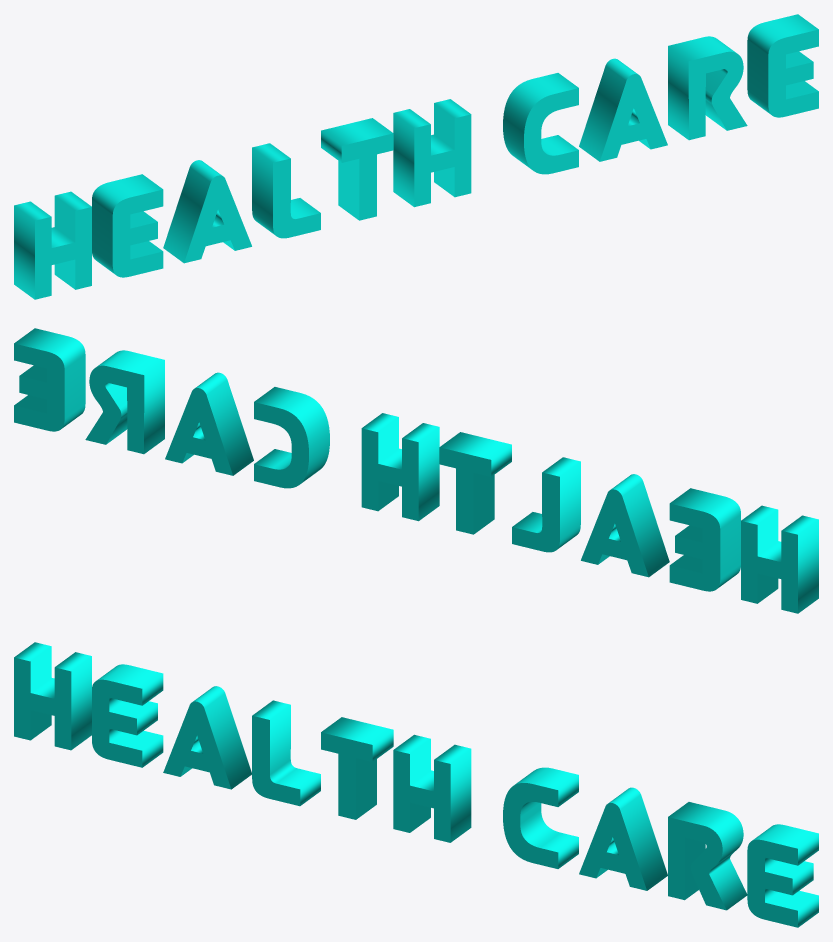
File: health.glb
The picture shows the model from 3 angles, top to bottom: view 1: azimuth 30°, elevation 25°; view 2: azimuth 150°, elevation 25°; view 3: azimuth 330°, elevation 25°; orthographic projection.
Parts seen in each view (by area): view 1: Text.025; view 2: Text.025; view 3: Text.025.
Boxes of the visible parts, x1,y1,x2,y2 form: Text.025: [14, 14, 818, 299]; Text.025: [14, 328, 818, 613]; Text.025: [14, 642, 818, 927].
Size of the model in its own units: 0.731 by 0.0709 by 0.0338.
